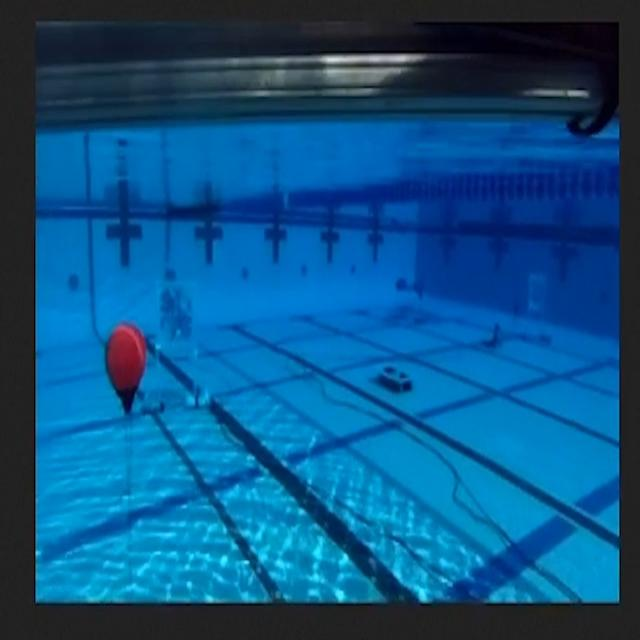Buoy: (101, 323, 148, 414)
